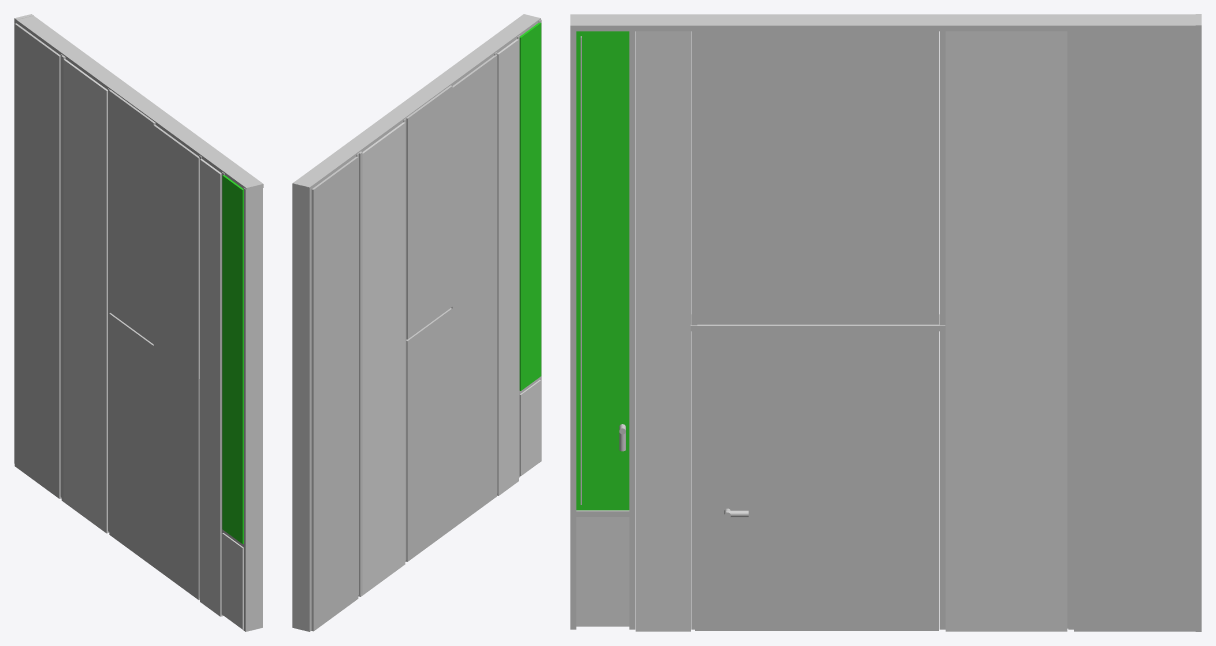
The model's file is Fenster_aktuell.fbx.
The picture shows the model from 3 angles, left to right: view 1: azimuth 30°, elevation 25°; view 2: azimuth 150°, elevation 25°; view 3: azimuth 270°, elevation 25°; orthographic projection. The views are drawn at different scales.
Parts seen in each view (by area): view 1: Cube.008, Cube.005, Cube.004, Cube.002, Cube.003, Cube.001, Cube, Cube.006, Cube.009, Cube.007, Cube.014, Cube.011 (+3 smaller); view 2: Cube.008, Cube.005, Cube.004, Cube.003, Cube.002, Cube.001, Cube.010, Cube.006, Cube.009, Cube.007, Cube.014, Cube.013 (+3 smaller); view 3: Cube.004, Cube.008, Cube.005, Cube.003, Cube.002, Cube.001, Cube.006, Cube.009, Cube.007, Cube.010, Cube, Cube.011 (+6 smaller).
Part boxes in pixels (x1,y1,x2,y2): Cube.008: [14, 23, 61, 498]; Cube.005: [109, 313, 199, 599]; Cube.004: [61, 59, 109, 533]; Cube.002: [153, 125, 199, 379]; Cube.003: [109, 90, 155, 343]; Cube.001: [200, 159, 223, 616]; Cube: [243, 188, 262, 631]; Cube.006: [222, 175, 243, 543]; Cube.009: [16, 16, 263, 191]; Cube.007: [222, 533, 243, 629]; Cube.014: [61, 55, 65, 499]; Cube.011: [221, 172, 224, 614]; Cube.008: [311, 156, 358, 631]; Cube.005: [405, 276, 496, 561]; Cube.004: [358, 122, 405, 596]; Cube.003: [406, 85, 452, 339]; Cube.002: [451, 55, 497, 308]; Cube.001: [497, 39, 518, 495]; Cube.010: [292, 181, 311, 631]; Cube.006: [519, 22, 541, 390]; Cube.009: [292, 14, 540, 191]; Cube.007: [519, 380, 541, 476]; Cube.014: [358, 151, 362, 595]; Cube.013: [403, 118, 406, 560]; Cube.004: [945, 31, 1067, 631]; Cube.008: [1074, 31, 1195, 631]; Cube.005: [695, 331, 938, 630]; Cube.003: [817, 31, 938, 324]; Cube.002: [697, 31, 816, 324]; Cube.001: [635, 31, 690, 631]; Cube.006: [576, 31, 629, 510]; Cube.009: [570, 14, 1201, 31]; Cube.007: [576, 517, 629, 626]; Cube.010: [1195, 14, 1201, 631]; Cube: [570, 31, 576, 629]; Cube.011: [629, 31, 635, 629].
Size of the model in its own units: 16.79 by 302 by 285.
